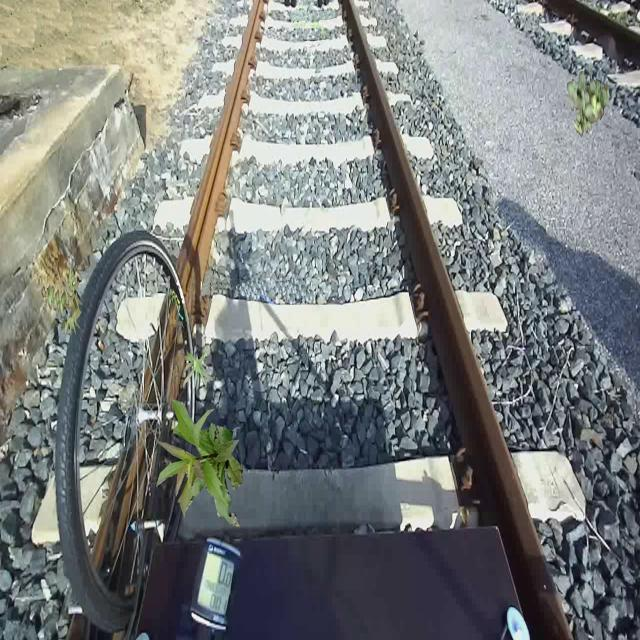Plant: (154, 398, 242, 528), (41, 265, 82, 336), (566, 70, 610, 136), (183, 349, 216, 395)
